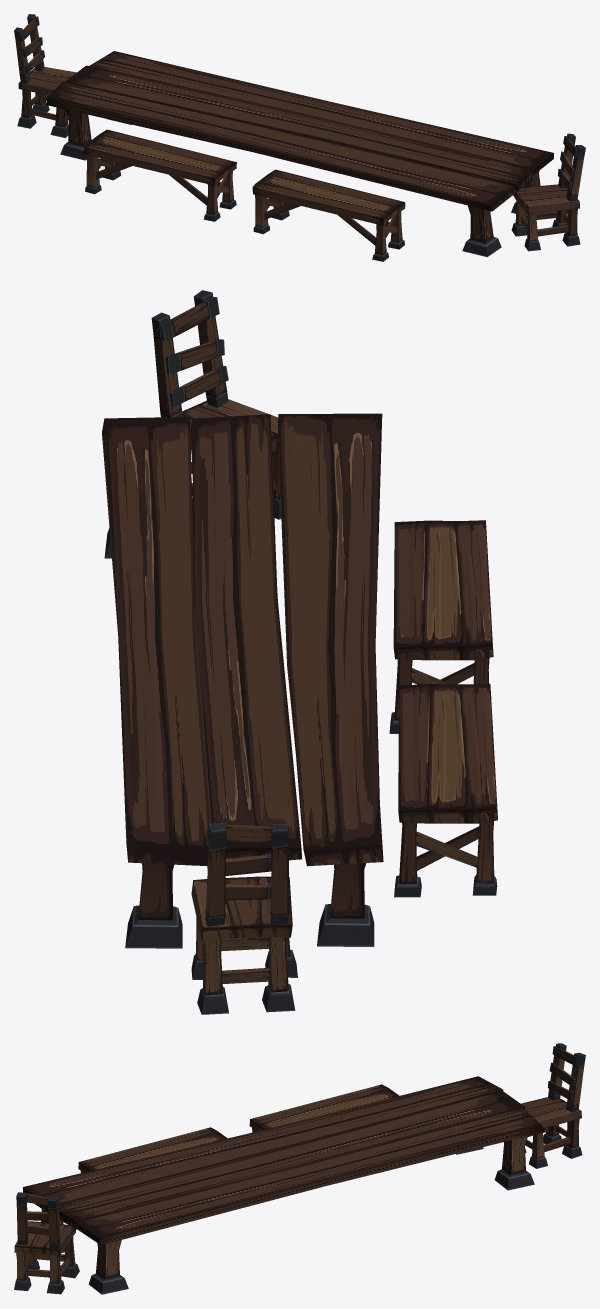
The model's file is RoomsCentraltable.fbx.
The picture shows the model from 3 angles, top to bottom: view 1: azimuth 30°, elevation 25°; view 2: azimuth 150°, elevation 25°; view 3: azimuth 270°, elevation 25°; orthographic projection. The views are drawn at different scales.
Parts seen in each view (by area): view 1: SM_PROP_chair_01_dungeon.001; view 2: SM_PROP_chair_01_dungeon.001; view 3: SM_PROP_chair_01_dungeon.001.
Boxes of the visible parts, x1,y1,x2,y2 form: SM_PROP_chair_01_dungeon.001: (14, 14, 585, 261); SM_PROP_chair_01_dungeon.001: (102, 290, 497, 1014); SM_PROP_chair_01_dungeon.001: (14, 1043, 585, 1294).
Size of the model in its own units: 5.9 by 1.61 by 8.49.
Materials: 2 (2 with a texture image).
